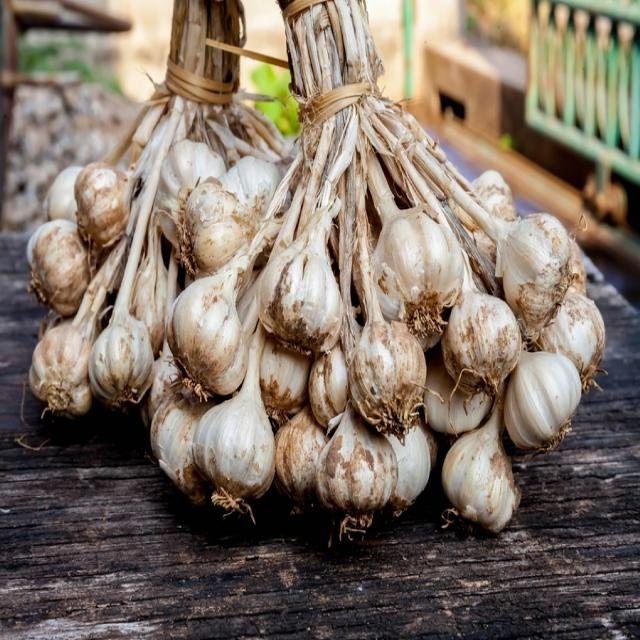garlic: (26, 0, 580, 532), (28, 102, 565, 531), (441, 381, 519, 530)
